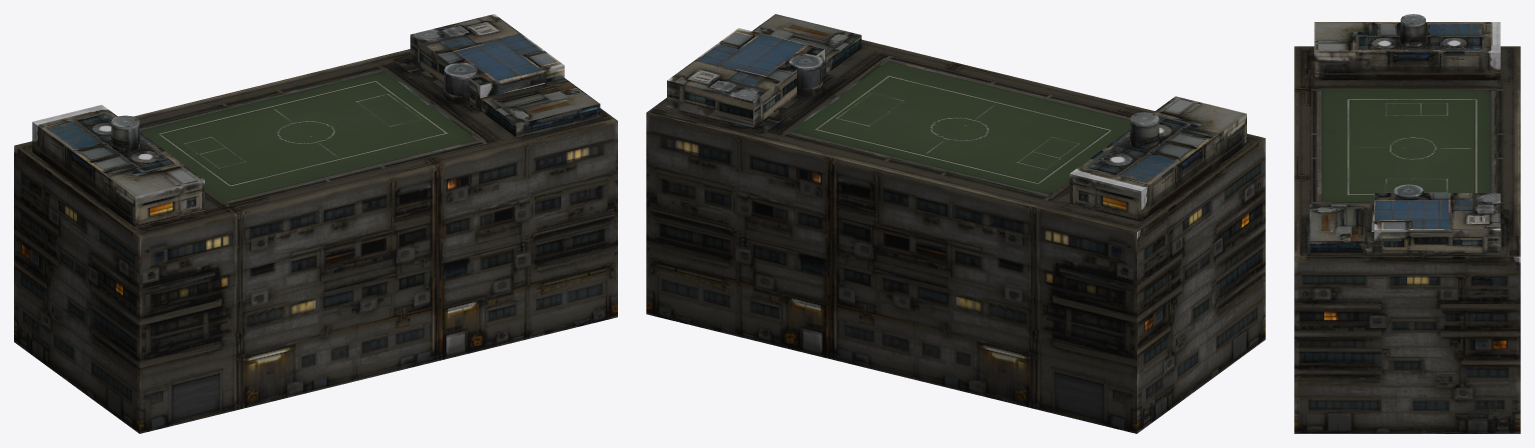
File: CP_Slums_Football_Field.fbx
3 views of the same model, side by side, from view 1: azimuth 30°, elevation 25°; view 2: azimuth 150°, elevation 25°; view 3: azimuth 270°, elevation 25° (orthographic). The views are drawn at different scales.
Visible parts, largest first — view 1: CP_Slums_Football_Field; view 2: CP_Slums_Football_Field; view 3: CP_Slums_Football_Field.
Boxes of the visible parts, bbox=[...] form: CP_Slums_Football_Field: bbox=[14, 14, 617, 433]; CP_Slums_Football_Field: bbox=[646, 14, 1265, 433]; CP_Slums_Football_Field: bbox=[1294, 14, 1520, 433].
Size of the model in its own units: 3512 by 1765 by 1596.
